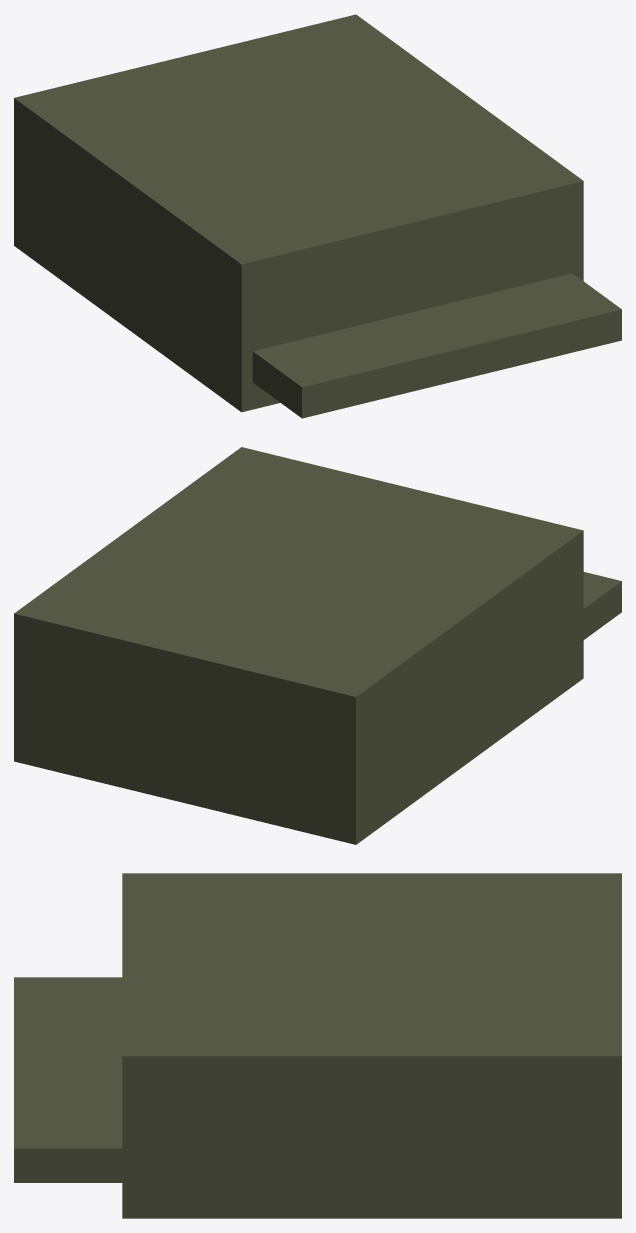
The model's file is usmc_utility_cover.glb.
The picture shows the model from 3 angles, top to bottom: view 1: azimuth 30°, elevation 25°; view 2: azimuth 150°, elevation 25°; view 3: azimuth 270°, elevation 25°; orthographic projection. The views are drawn at different scales.
Parts seen in each view (by area): view 1: usmc_utility_cover; view 2: usmc_utility_cover; view 3: usmc_utility_cover.
Boxes of the visible parts, <box> form: usmc_utility_cover: <box>14,14,621,418</box>; usmc_utility_cover: <box>14,447,621,844</box>; usmc_utility_cover: <box>14,873,621,1218</box>.
Size of the model in its own units: 0.184 by 0.076 by 0.258.
Materials: 1 (1 with a texture image).
